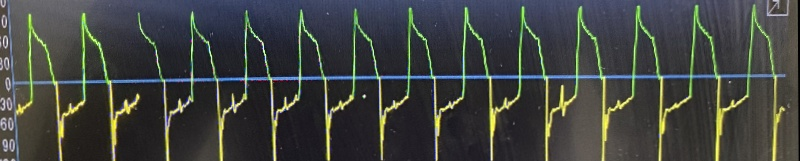hydrop_peepi: (3, 5, 794, 161)
